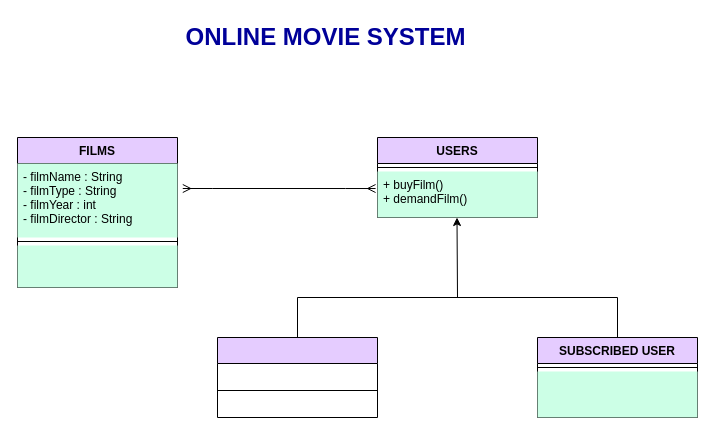
The diagram is 715 pixels wide and 437 high, and some of its shapes have lost their labels. Each missing label, with the centre of its shape:
"+ buyCredit() + rentFilm()" goes at (x=617, y=394).
"+ listFilms() + orderFilms()" goes at (x=97, y=266).
"NORMAL USER" goes at (x=297, y=377).
